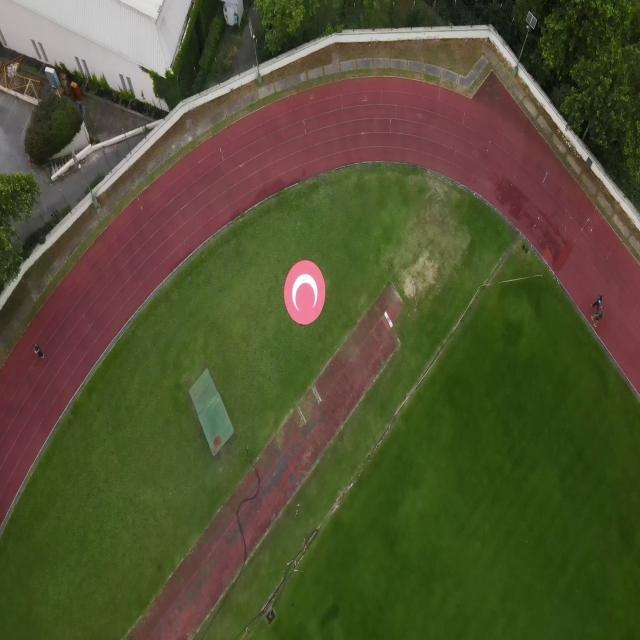vehicle: (284, 259, 326, 326), (34, 342, 46, 358), (595, 295, 603, 308)
